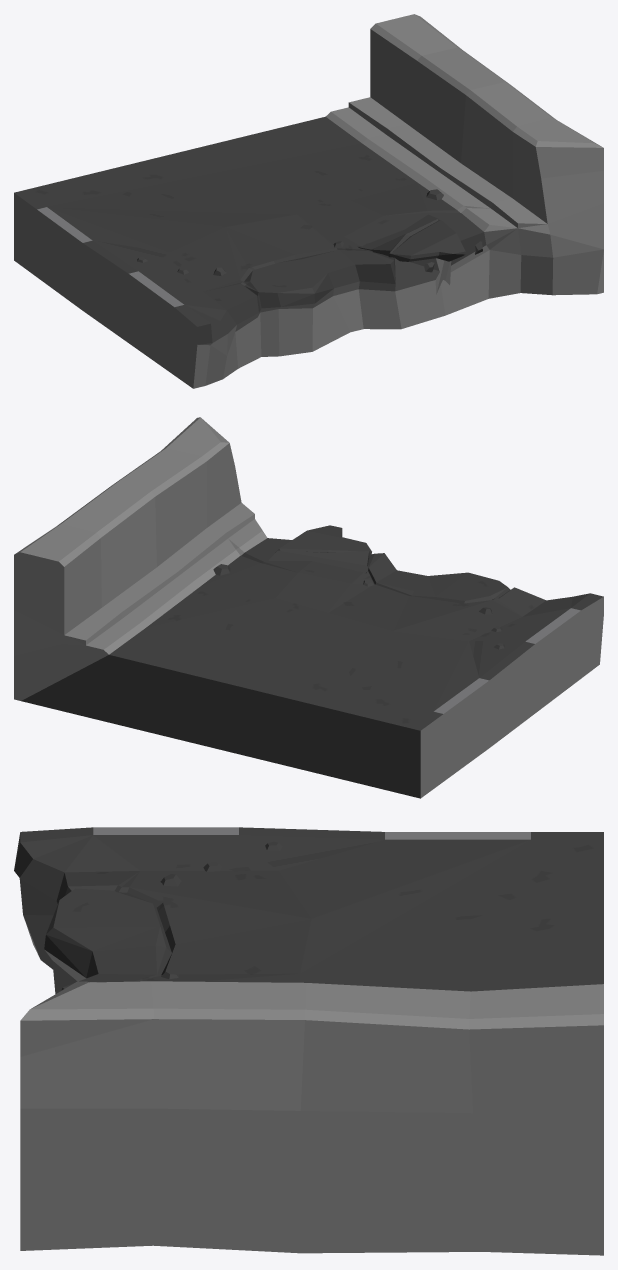
The model's file is SM_Env_Motorway_Edge_Destroyed_02.glb.
3 views of the same model, one above another, from view 1: azimuth 30°, elevation 25°; view 2: azimuth 150°, elevation 25°; view 3: azimuth 270°, elevation 25° (orthographic). The views are drawn at different scales.
Parts seen in each view (by area): view 1: SM_Env_Motorway_Edge_Destroyed_02; view 2: SM_Env_Motorway_Edge_Destroyed_02; view 3: SM_Env_Motorway_Edge_Destroyed_02.
Part boxes in pixels (<box>): SM_Env_Motorway_Edge_Destroyed_02: <box>14,14,603,388</box>; SM_Env_Motorway_Edge_Destroyed_02: <box>14,417,603,798</box>; SM_Env_Motorway_Edge_Destroyed_02: <box>14,827,603,1255</box>.
Bounding box in the file's own units: 6.4 × 2.28 × 5.05.
Materials: 1 (1 with a texture image).
